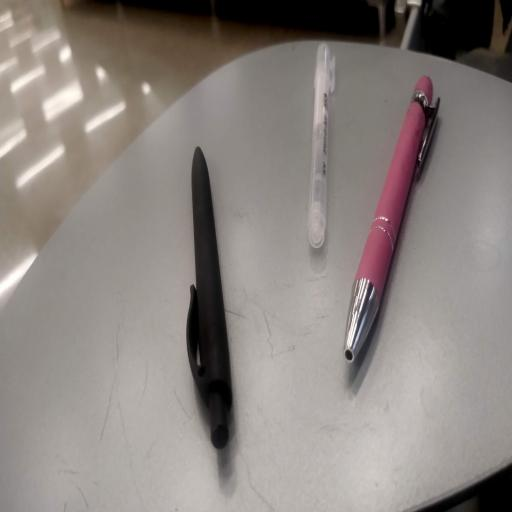pen: (345, 77, 439, 361), (187, 147, 232, 448), (308, 43, 335, 248)
